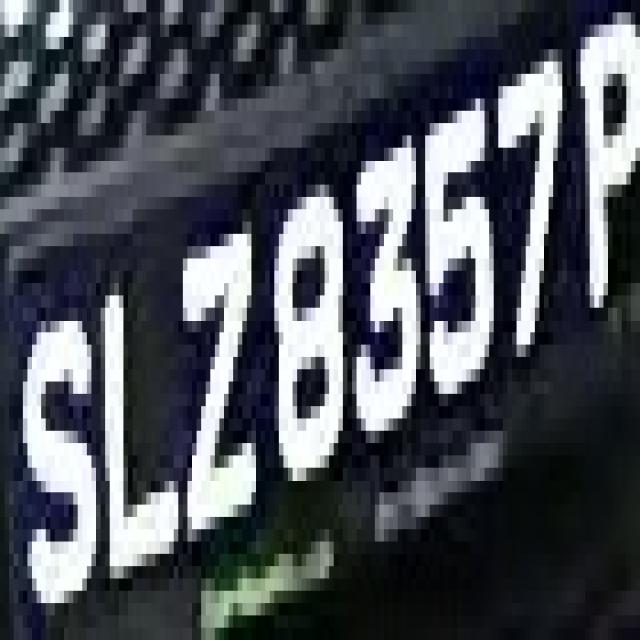3: (352, 99, 421, 492)
5: (393, 74, 498, 418)
7: (471, 61, 567, 394)
8: (247, 185, 347, 492)
L: (96, 258, 192, 616)
P: (571, 0, 639, 332)
S: (9, 283, 101, 640)
Z: (169, 197, 270, 554)
